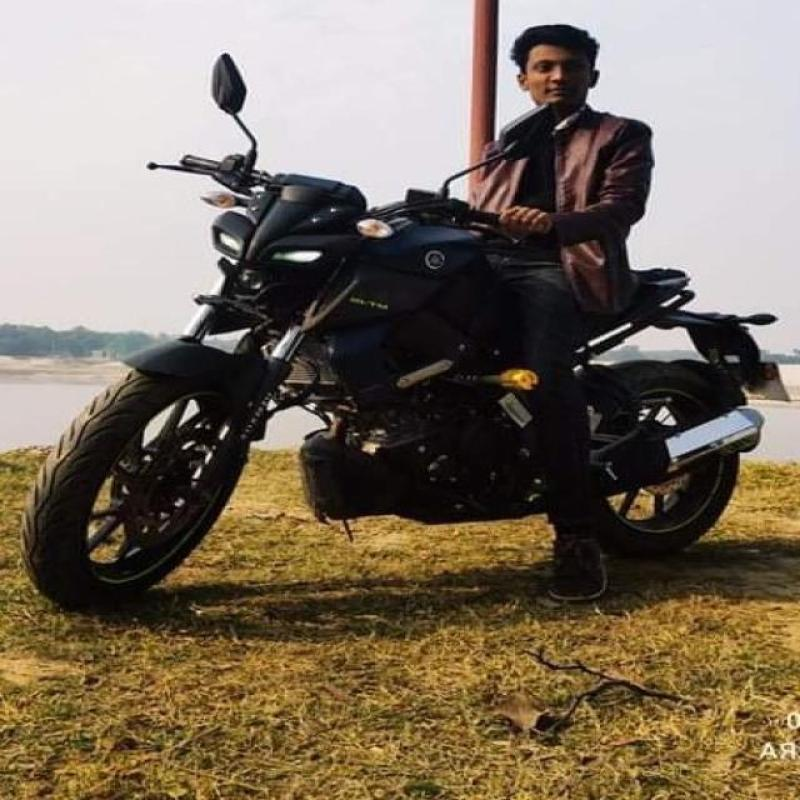nohelmet: (510, 18, 624, 123)
